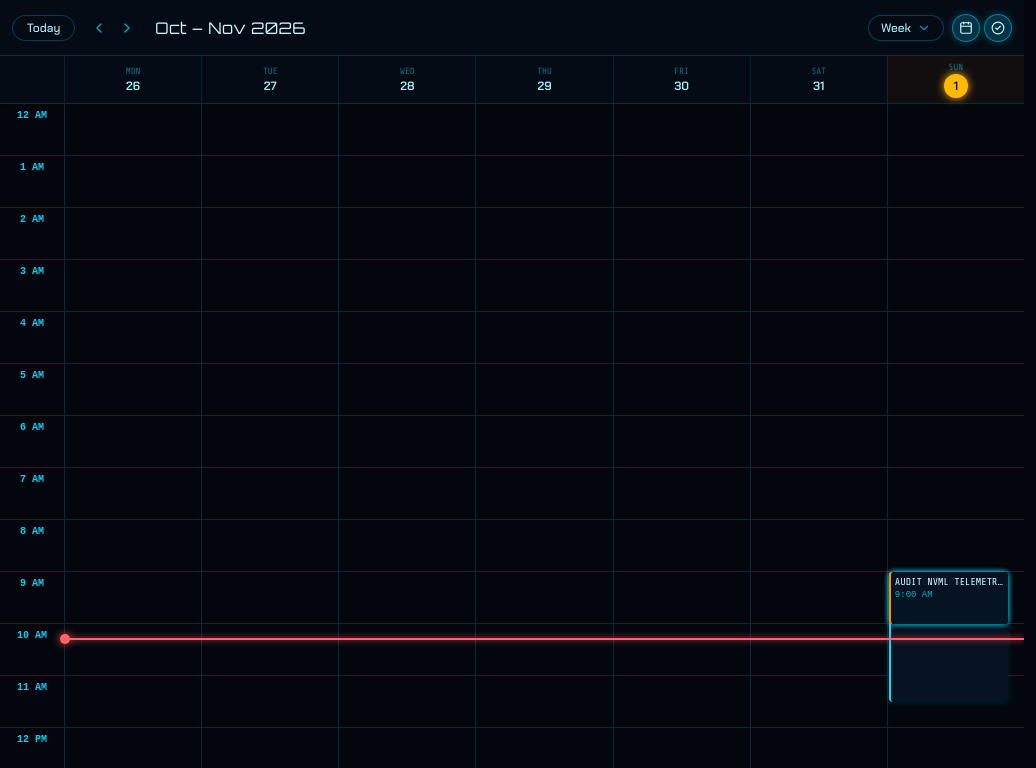
Test: CalendarView Component › navigates forward and backward with Next and Prev buttons
What coordinates should you click on to do the following:
click the button with test id "next-button"
I would click on:
 (127, 28)
Its box is [115,16,139,40].
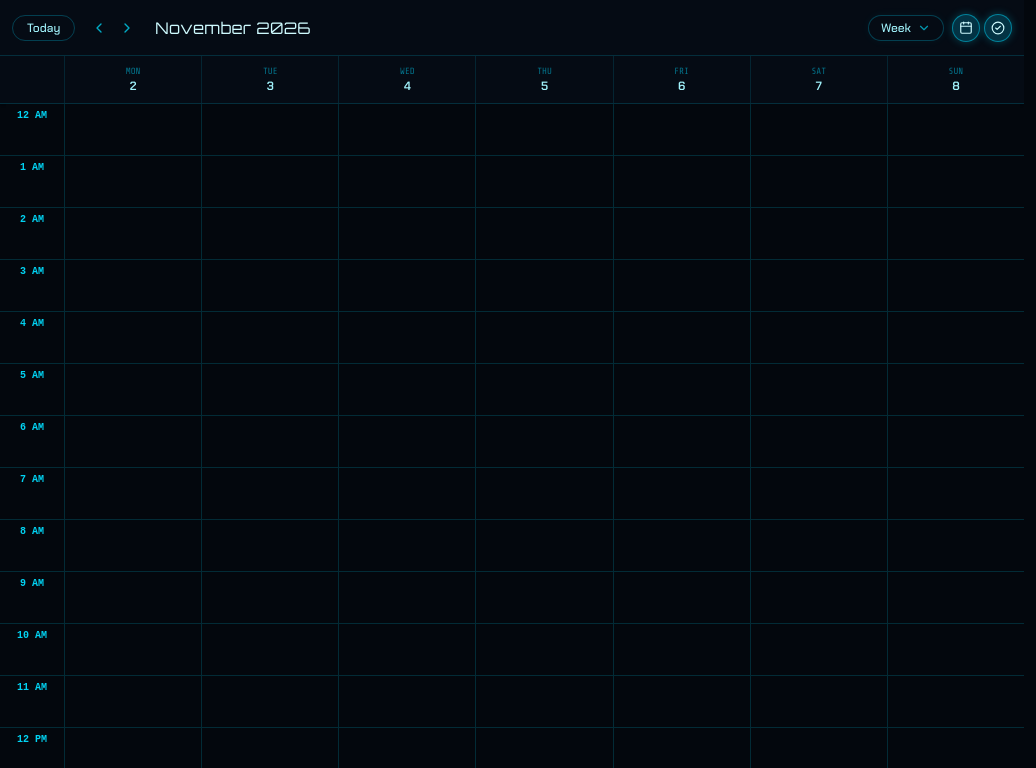
What coordinates should you click on to do the following:
click the button with test id "prev-button"
I would click on:
 (99, 28)
Its box is [87,16,111,40].
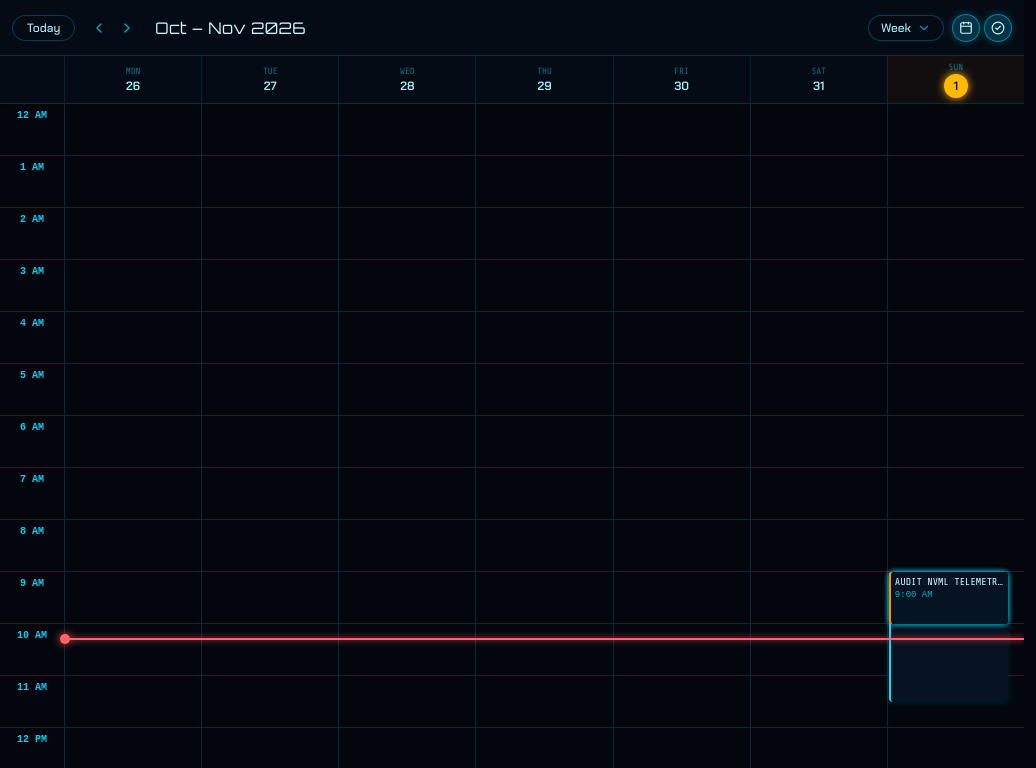
Now the heading with test id "calendar-header-title" reads "Oct – Nov 2026", box [155,18,306,38]
